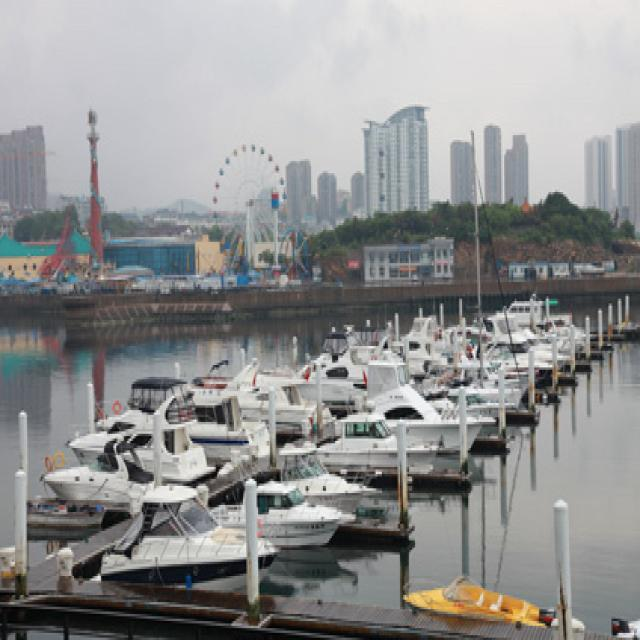passenger ship: (358, 390, 482, 525), (59, 377, 246, 460), (64, 415, 201, 515), (110, 521, 282, 597), (239, 474, 350, 536), (324, 418, 420, 482)
